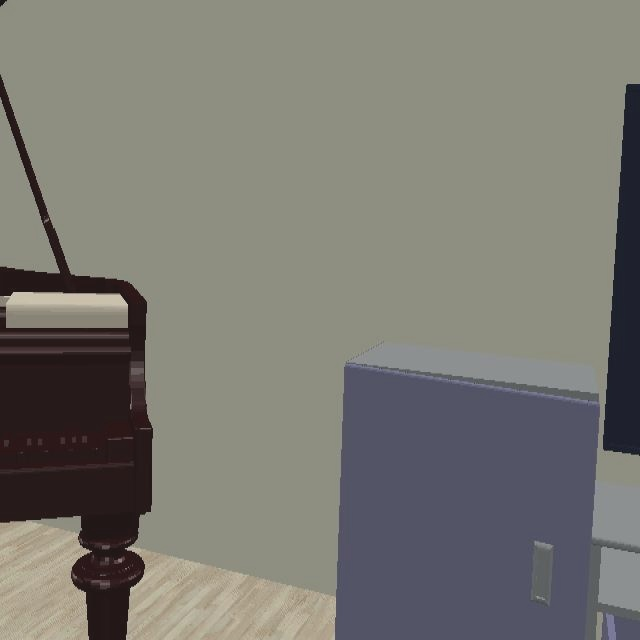cabinet: (336, 343, 640, 638)
monitor: (604, 83, 640, 454)
